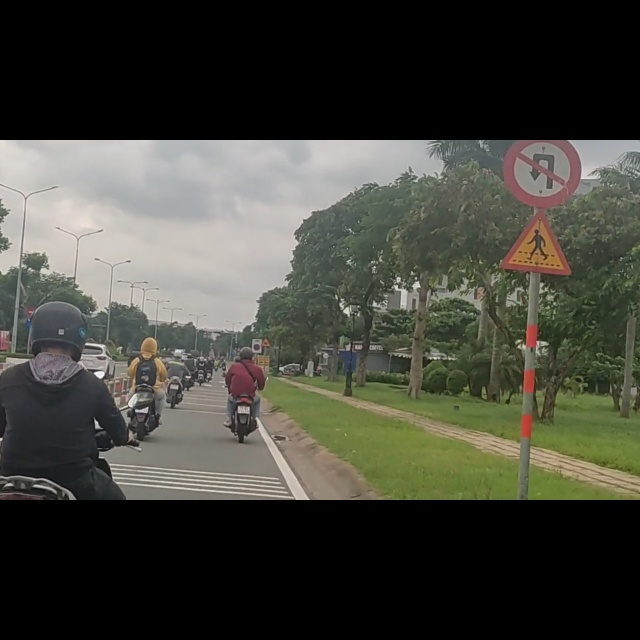bien_cam: (503, 1, 582, 120), (503, 123, 572, 241), (26, 295, 36, 313), (253, 361, 261, 375)
